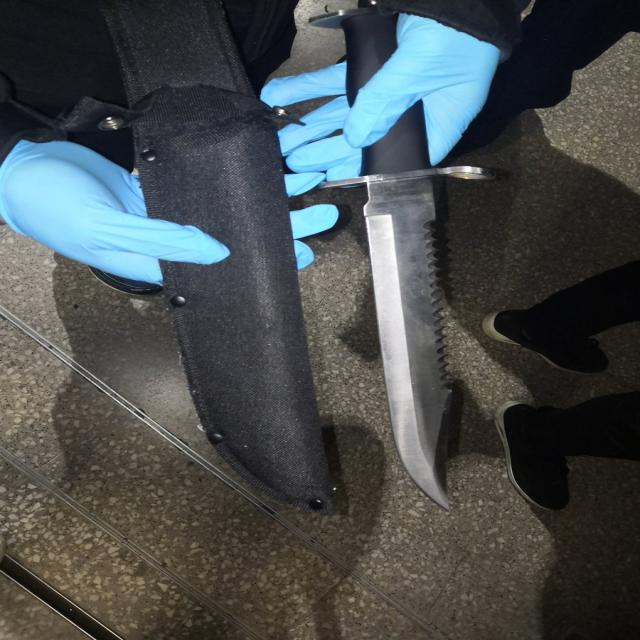Sharp-Object: (308, 7, 472, 513)
